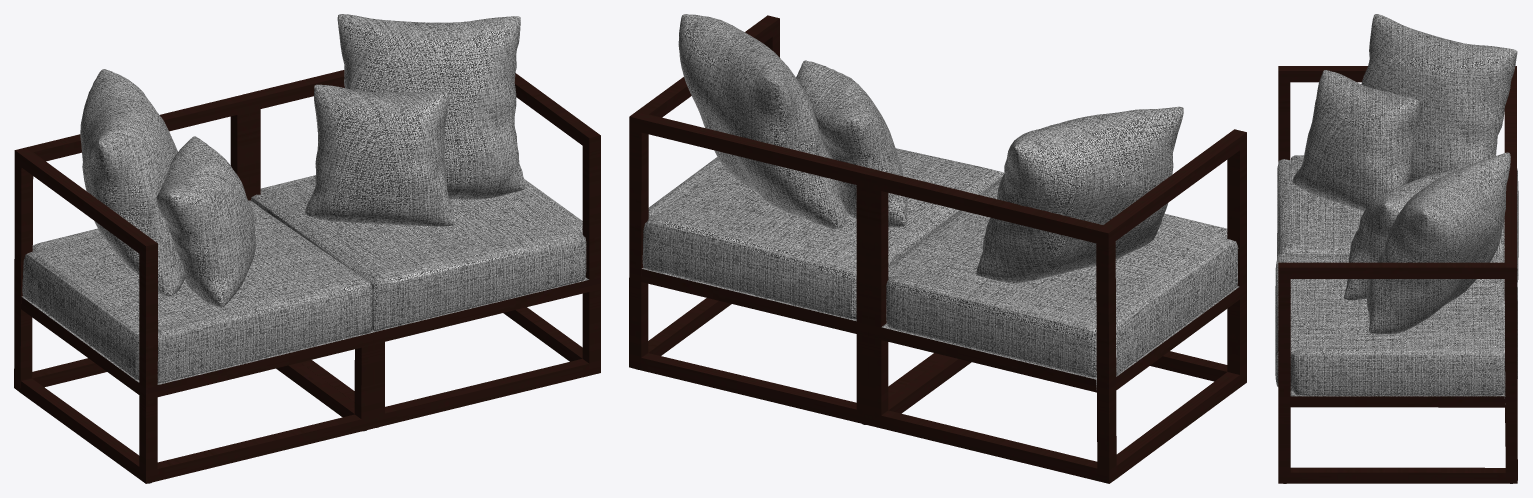
3 renders of one model, left to right at view 1: azimuth 30°, elevation 25°; view 2: azimuth 150°, elevation 25°; view 3: azimuth 270°, elevation 25°, orthographic. The views are drawn at different scales.
Parts seen in each view (by area): view 1: C-skp361.001, C-skp361; view 2: C-skp361.001, C-skp361; view 3: C-skp361, C-skp361.001.
Boxes of the visible parts, bbox=[...] form: C-skp361.001: bbox=[14, 69, 373, 483]; C-skp361: bbox=[242, 14, 600, 428]; C-skp361.001: bbox=[869, 106, 1246, 483]; C-skp361: bbox=[629, 14, 1003, 425]; C-skp361: bbox=[1275, 152, 1517, 483]; C-skp361.001: bbox=[1277, 14, 1518, 281].
Bounding box in the file's own units: 1.27 × 0.7963 × 0.6418.
Materials: 4 (3 with a texture image).
